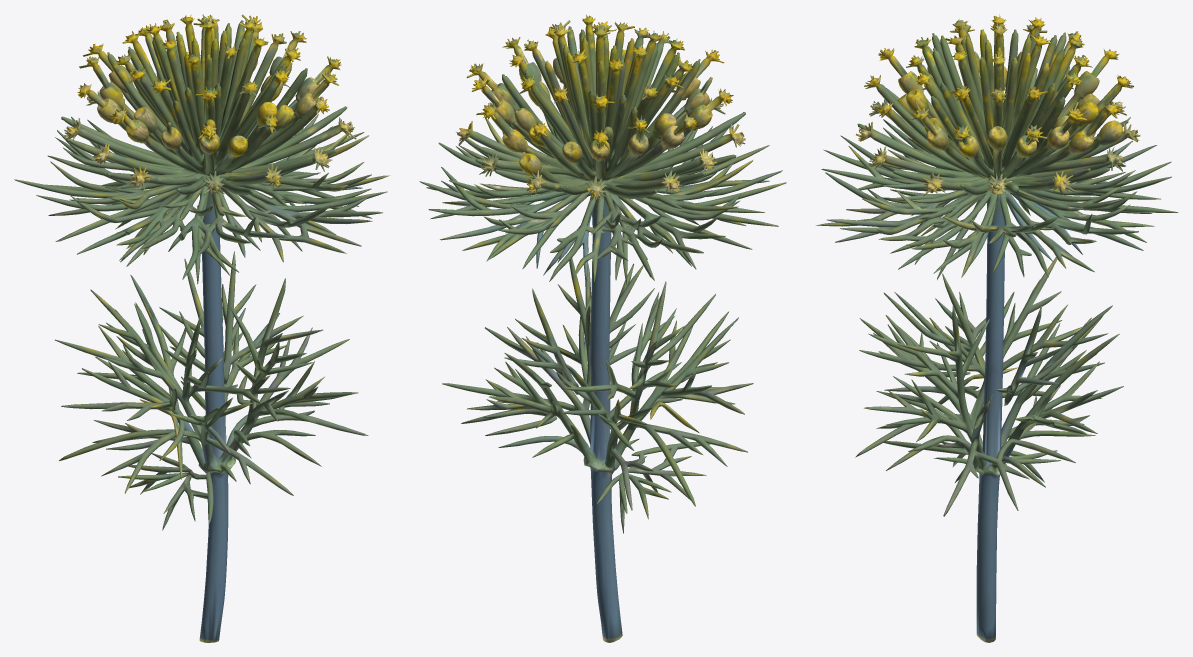
File: xiaohuixiang.glb
3 views of the same model, side by side, from view 1: azimuth 30°, elevation 25°; view 2: azimuth 150°, elevation 25°; view 3: azimuth 270°, elevation 25° (orthographic).
Parts seen in each view (by area): view 1: node_0; view 2: node_0; view 3: node_0.
Boxes of the visible parts, x1,y1,x2,y2 form: node_0: [14, 14, 390, 642]; node_0: [419, 14, 786, 642]; node_0: [816, 14, 1178, 642].
Bounding box in the file's own units: 0.6201 × 1.2 × 0.6382.
1 material, 1 textured.
